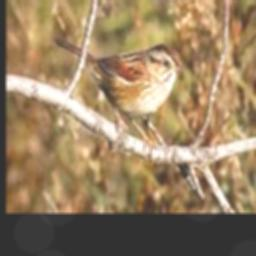Sparrow: (54, 38, 184, 158)
